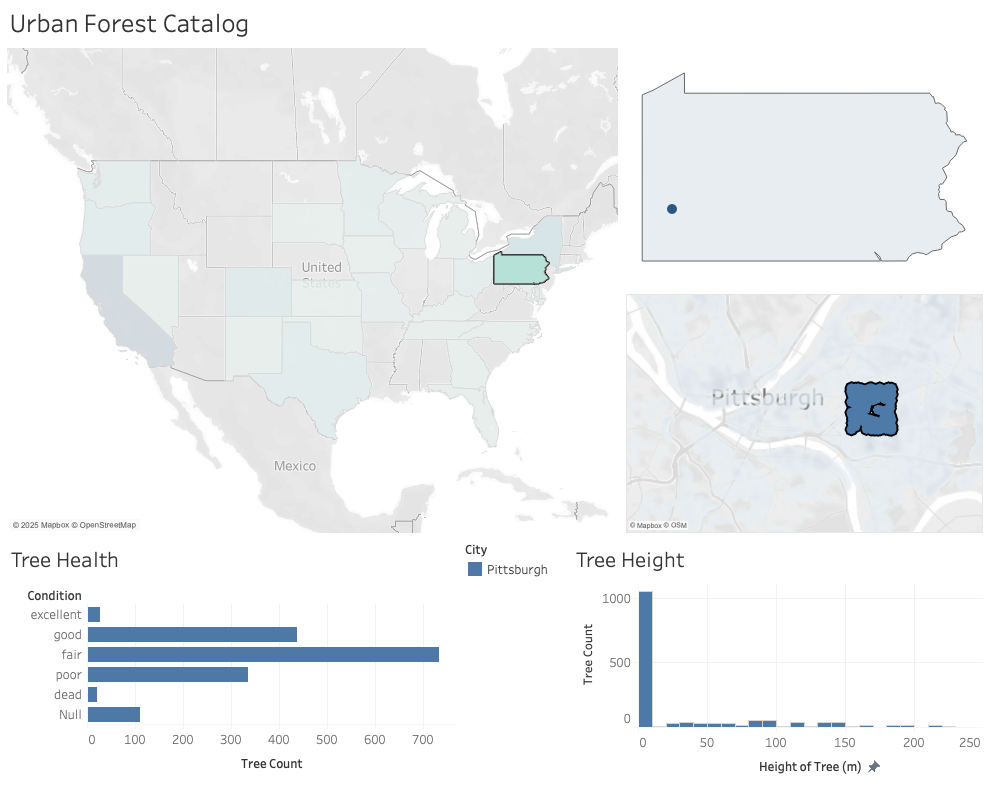

The page's visual inventory and layout, read from the dashboard file:
{"tool":"tableau","page":{"name":"Urban Tree Catalog","canvas":[1000,800],"ordinal":1},"visuals":[{"type":"title","box":[8,8,984,42]},{"type":"worksheet","title":"State Map","mark":"Multipolygon","box":[8,50,619,493]},{"type":"worksheet","title":"Cities Map","mark":"Automatic","box":[627,50,365,246.5]},{"type":"worksheet","title":"City Map","mark":"Heatmap","rows":["latitude_coordinate"],"cols":["longitude_coordinate"],"box":[627,296.5,365,246.5]},{"type":"worksheet","title":"Tree Health","mark":"Automatic","rows":["condition"],"cols":["id"],"box":[8,543,458,249]},{"type":"legend","title":"Tree Health","param":"[federated.1ui72kf1e270yf10xwof80297bqx].[none:city:nk]","box":[466,543,107,249]},{"type":"worksheet","title":"Height Histogram","mark":"Automatic","rows":["height_M"],"cols":["height M (bin)"],"box":[573,543,419,249]}]}

Visuals, with their boxes in screenshot pixels (x1, y1, x2, y2), scaled from the page's 1000x800 canvas onto the 990x788 screenshot:
title: Rect(8, 8, 982, 49)
"State Map" worksheet (Multipolygon marks): Rect(8, 49, 621, 535)
"Cities Map" worksheet: Rect(621, 49, 982, 292)
"City Map" worksheet (Heatmap marks): Rect(621, 292, 982, 535)
"Tree Health" worksheet: Rect(8, 535, 461, 780)
"Tree Health" legend: Rect(461, 535, 567, 780)
"Height Histogram" worksheet: Rect(567, 535, 982, 780)
